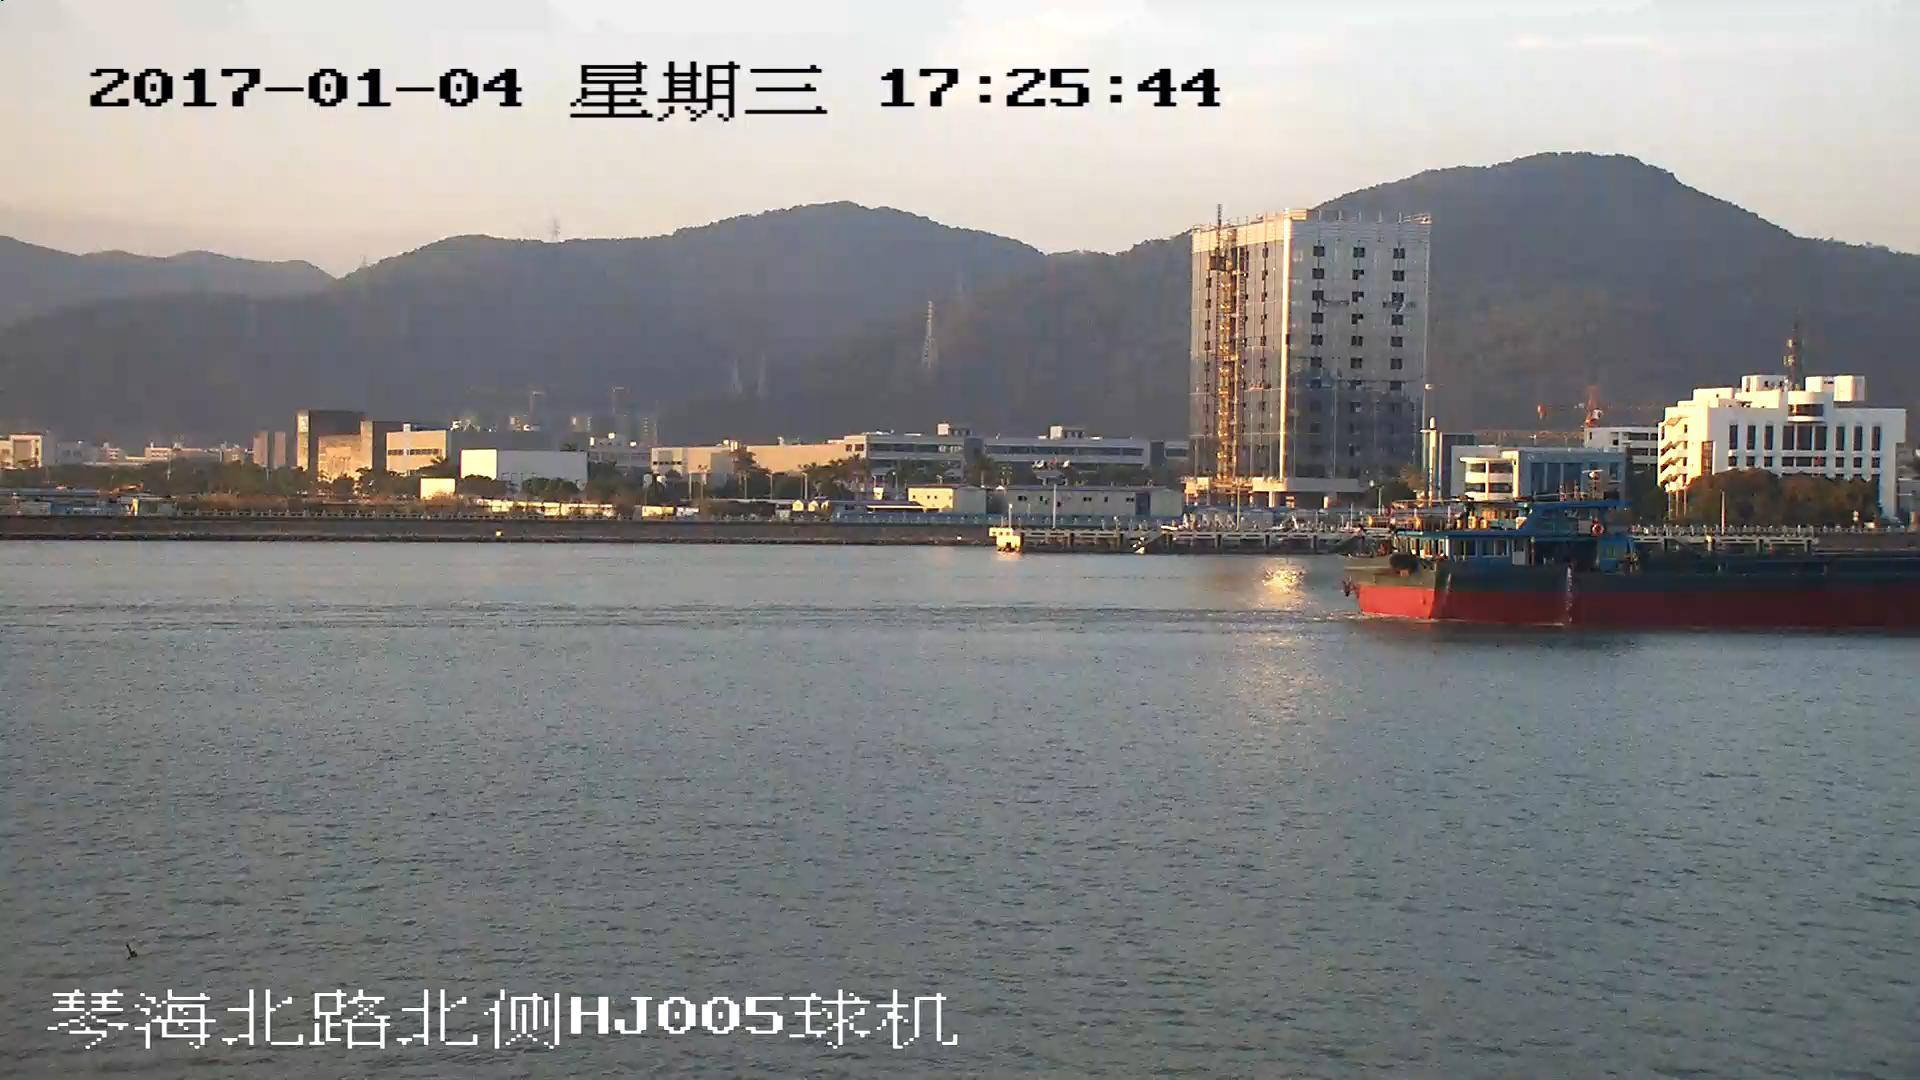Ship: (1352, 504, 1920, 636)
